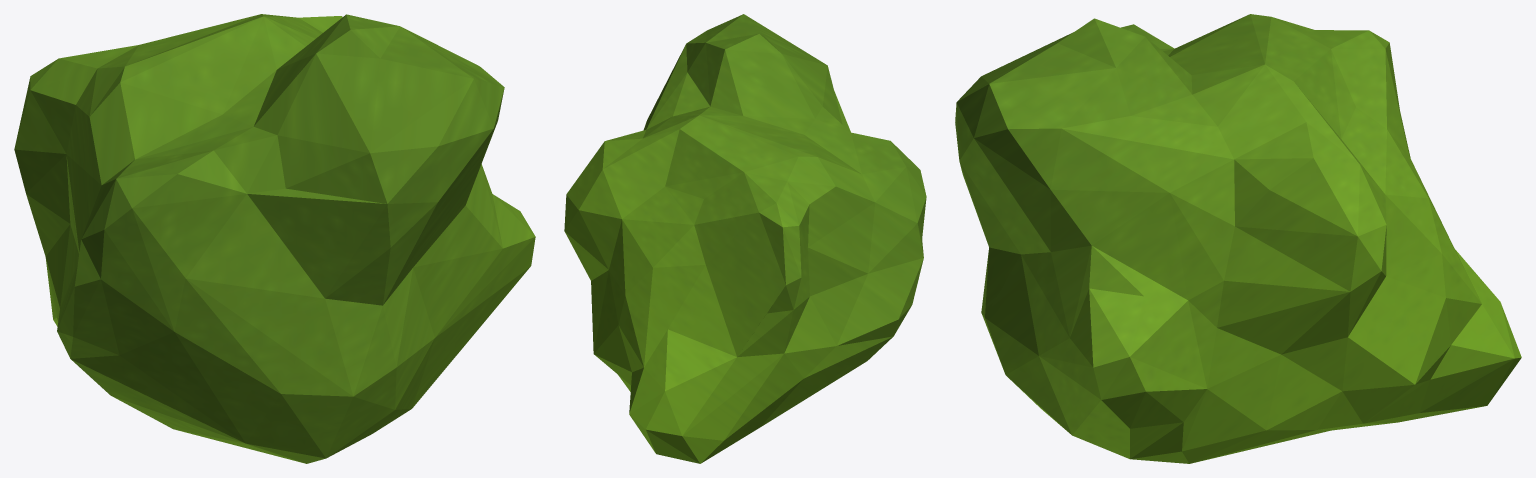
The model's file is ArbustoGd.fbx.
The picture shows the model from 3 angles, left to right: view 1: azimuth 30°, elevation 25°; view 2: azimuth 150°, elevation 25°; view 3: azimuth 270°, elevation 25°; orthographic projection. The views are drawn at different scales.
Parts seen in each view (by area): view 1: ArbustoGd; view 2: ArbustoGd; view 3: ArbustoGd.
Boxes of the visible parts, bbox=[...] form: ArbustoGd: bbox=[14, 14, 535, 463]; ArbustoGd: bbox=[564, 14, 926, 463]; ArbustoGd: bbox=[955, 14, 1521, 463].
Size of the model in its own units: 253 by 280 by 235.
1 material, 1 textured.
